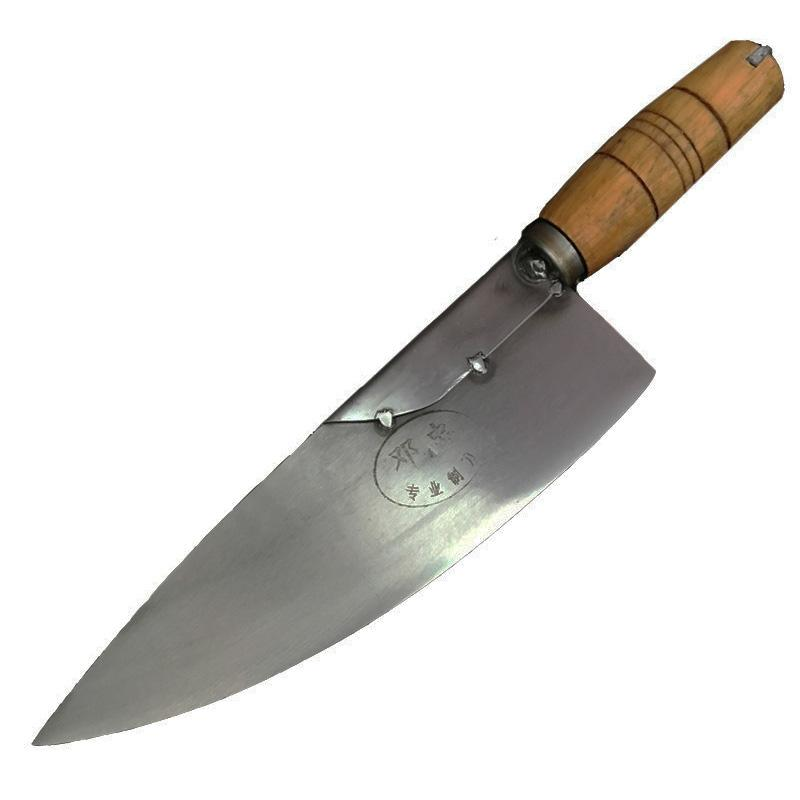knife: (15, 34, 795, 772)
